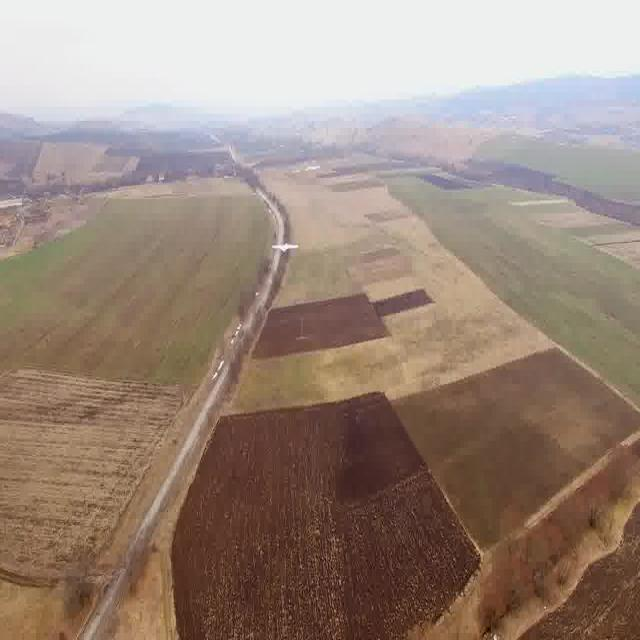iha: (274, 226, 306, 263)
